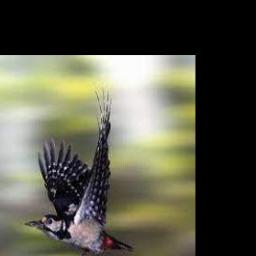Woodpecker: (25, 87, 134, 256)
